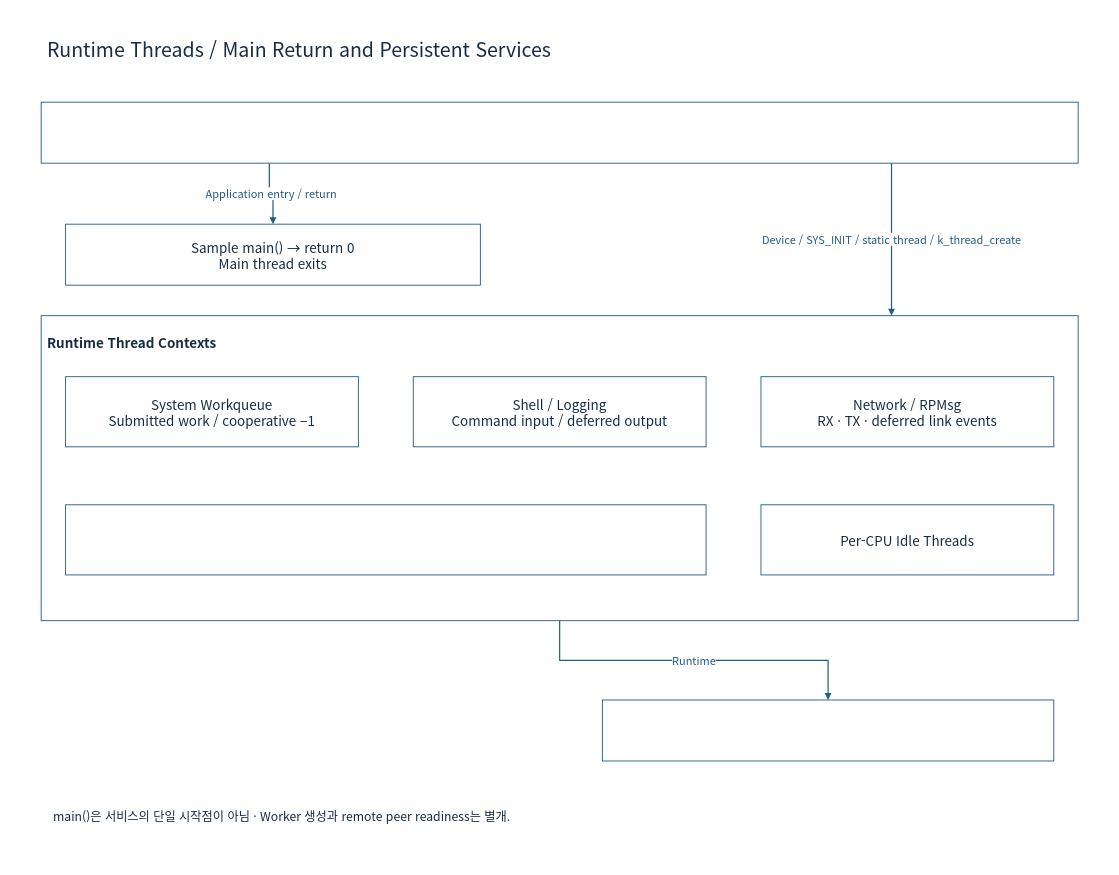
Image size: 1119x875. Some labels were removed from this diagram. Here are the shapes that lost their labels. From the top down, the centre of each, then its label:
the point at 559,132: Main Thread / POST_KERNEL → APPLICATION → SMP
the point at 385,539: PFDI Workers / pfdi_m0 .. pfdi_m3 CPU mask / command queue / periodic timeout
the point at 828,730: Other runnable threads continue Scheduler + interrupts maintain runtime
